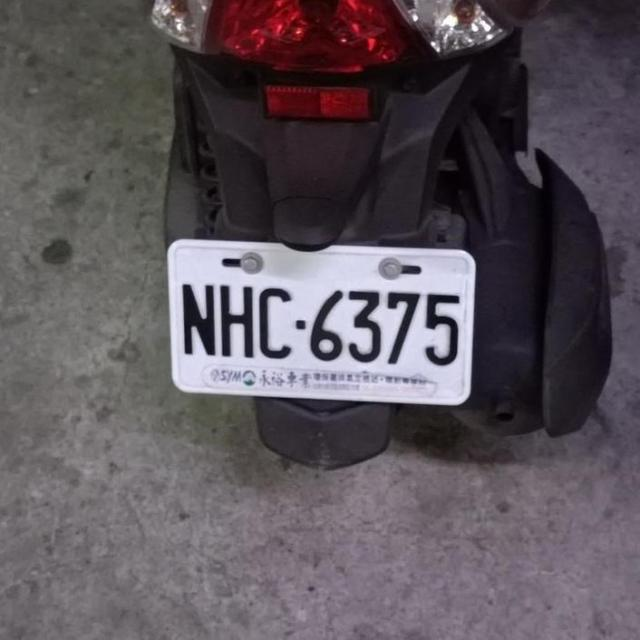W: (154, 228, 485, 416)
